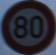Speed Limit -80-: (0, 0, 55, 54)
